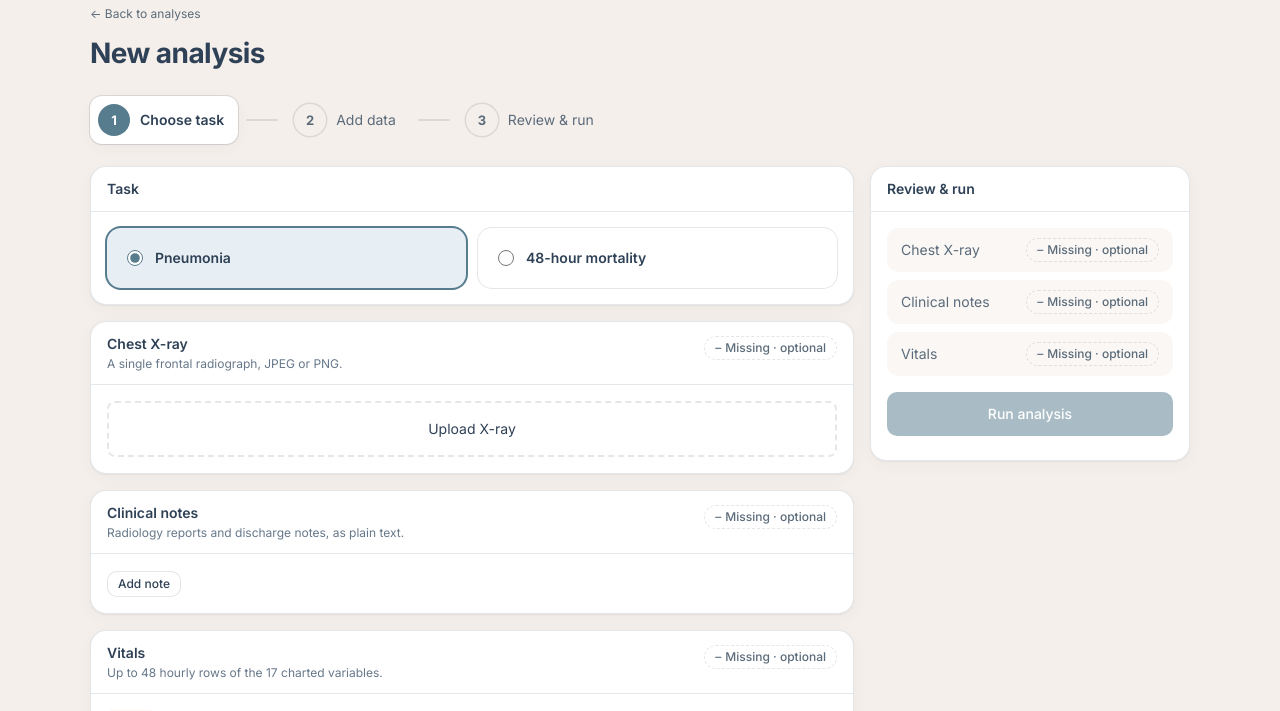
Scenario: AnalyzePage › disables submit until at least one modality is provided
This screenshot has width=1280, height=711.
Check: the button "Run analysis" is disabled, box x1=887 y1=392 x2=1173 y2=436
Click the button "Add note": (144, 584) x1=107 y1=571 x2=181 y2=597
(page scrolled)
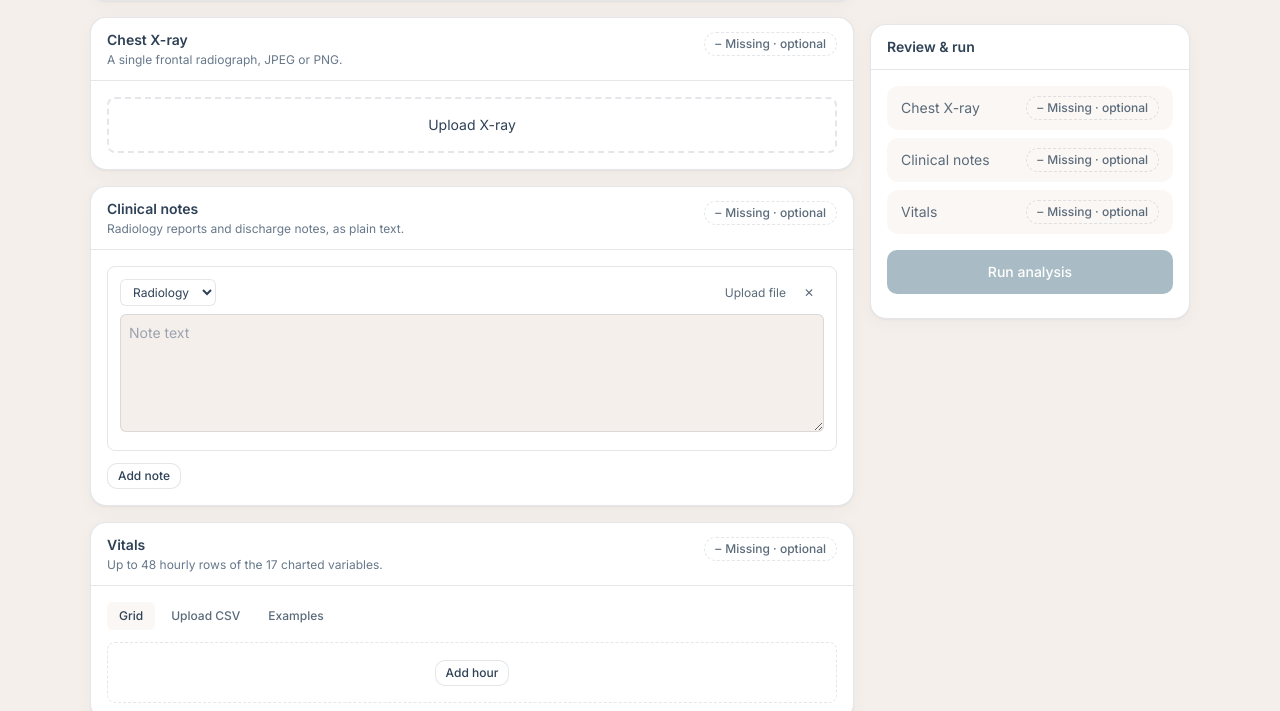
In the text box named "Note 1 text": (472, 373) x1=120 y1=314 x2=824 y2=432, type "Synthetic radiology note: right basal opacity."
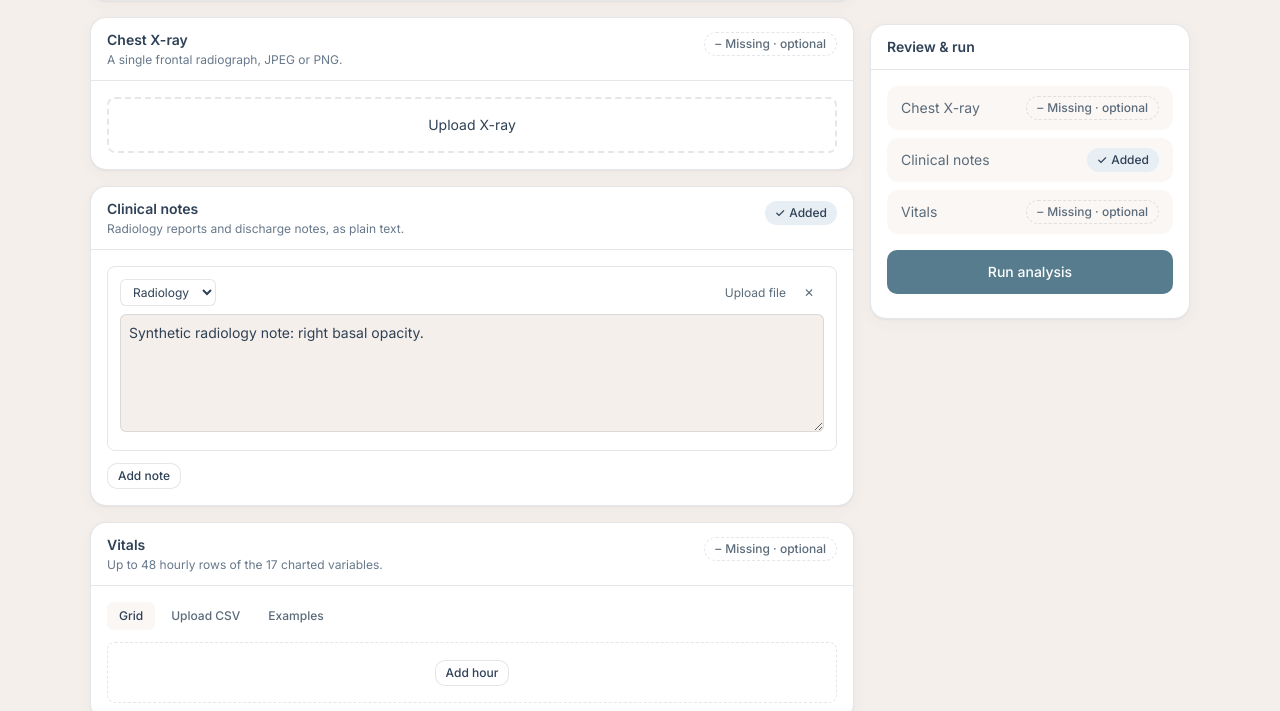
Check: the button "Run analysis" is enabled, box x1=887 y1=250 x2=1173 y2=294
